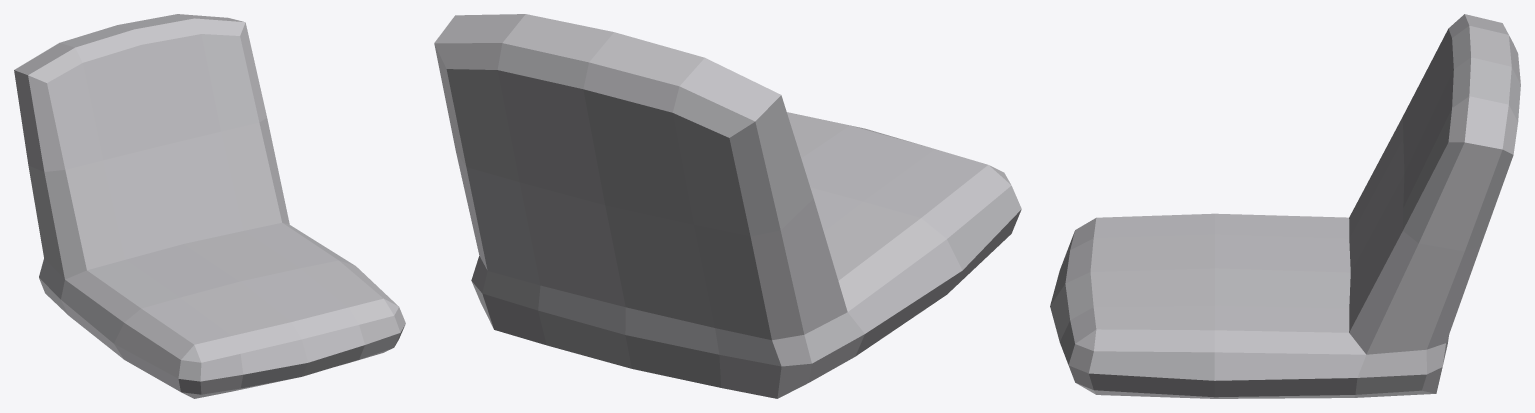
Rendered from Personal_Vehicle_02_Seat.fbx.
3 views of the same model, side by side, from view 1: azimuth 30°, elevation 25°; view 2: azimuth 150°, elevation 25°; view 3: azimuth 270°, elevation 25° (orthographic). The views are drawn at different scales.
Parts seen in each view (by area): view 1: Personal_Vehicle_02_Seat; view 2: Personal_Vehicle_02_Seat; view 3: Personal_Vehicle_02_Seat.
Part boxes in pixels (x1,y1,x2,y2): Personal_Vehicle_02_Seat: (14,14,405,398); Personal_Vehicle_02_Seat: (434,14,1021,398); Personal_Vehicle_02_Seat: (1050,14,1520,398).
Size of the model in its own units: 71.75 by 64.43 by 95.77.
Materials: 1 (1 with a texture image).
